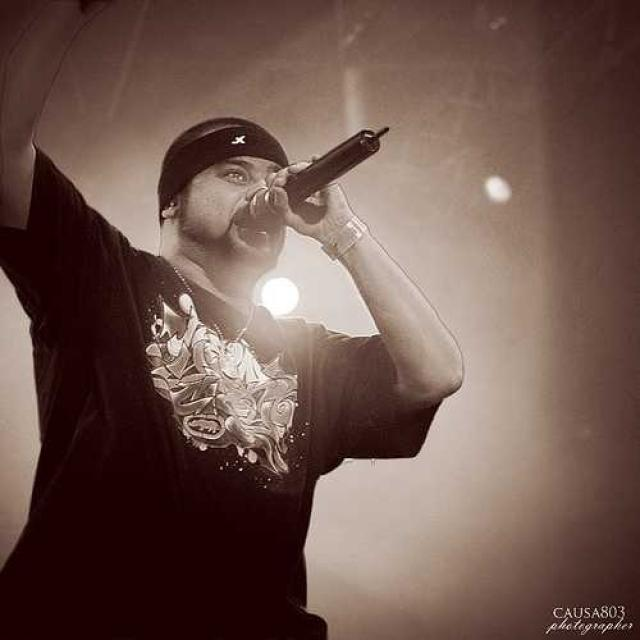microphone: (252, 124, 389, 233)
